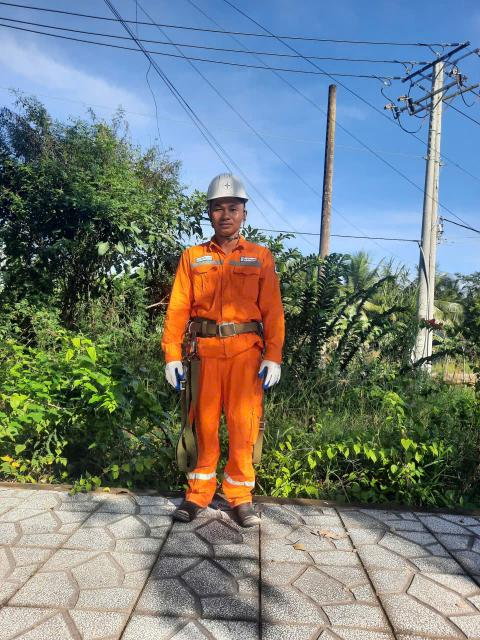gloves: (254, 355, 289, 395), (161, 364, 191, 396)
harness: (165, 307, 285, 352)
helmet: (196, 163, 252, 206)
shoes: (227, 496, 274, 533), (171, 489, 204, 529)
